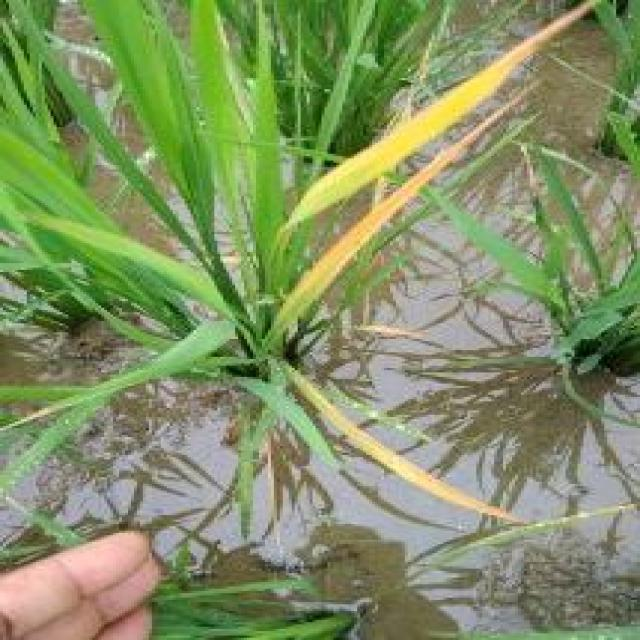Tungro: (262, 34, 640, 225), (274, 354, 540, 556), (296, 138, 478, 326)
